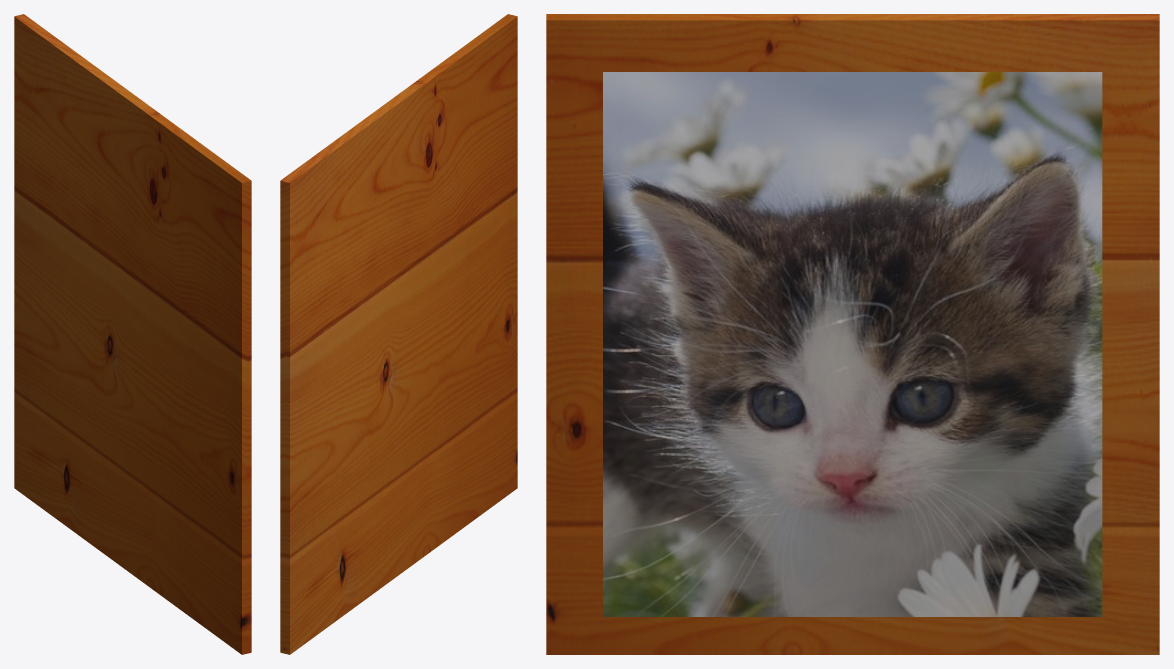
File: indivframedcat.obj
3 renders of one model, left to right at view 1: azimuth 30°, elevation 25°; view 2: azimuth 150°, elevation 25°; view 3: azimuth 270°, elevation 25°, orthographic. The views are drawn at different scales.
Parts seen in each view (by area): view 1: Cube; view 2: Cube; view 3: Plane, Cube.
Boxes of the visible parts, x1,y1,x2,y2 form: Cube: (14,14,251,654); Cube: (280,14,517,654); Plane: (603,72,1102,616); Cube: (546,14,1159,654).
Size of the model in its own units: 0.1302 by 3.79 by 3.32.
2 materials, 2 textured.
